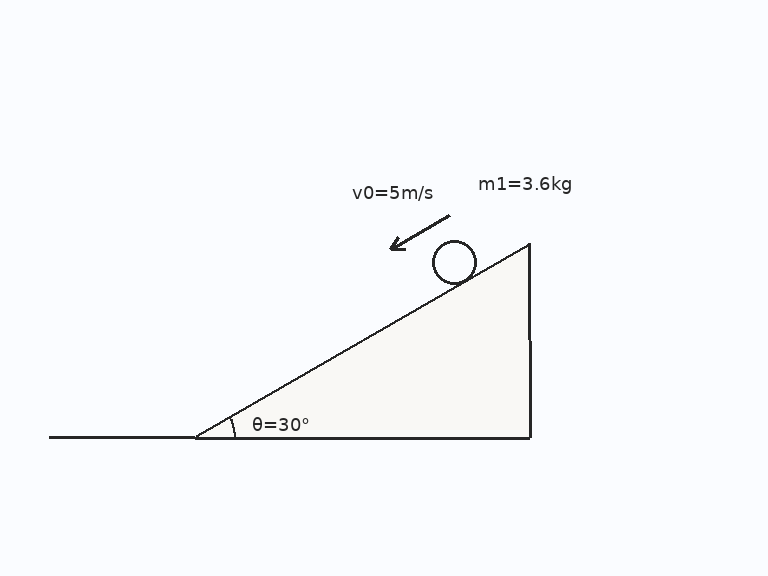ball: (430, 238, 478, 286)
ramp: (193, 243, 530, 439)
